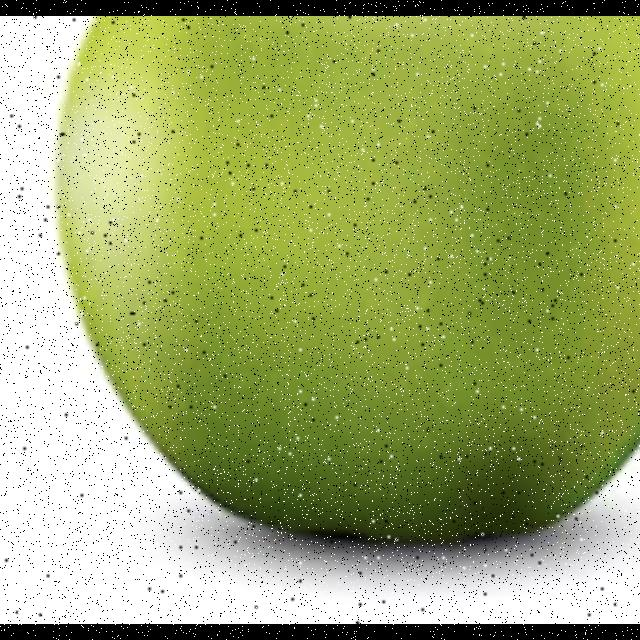Apel Segar: (50, 17, 640, 550)
